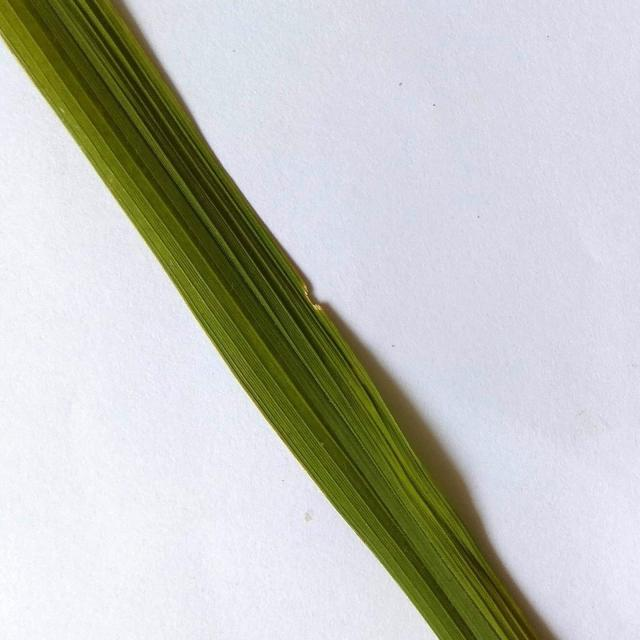healthy: (0, 0, 546, 640)
